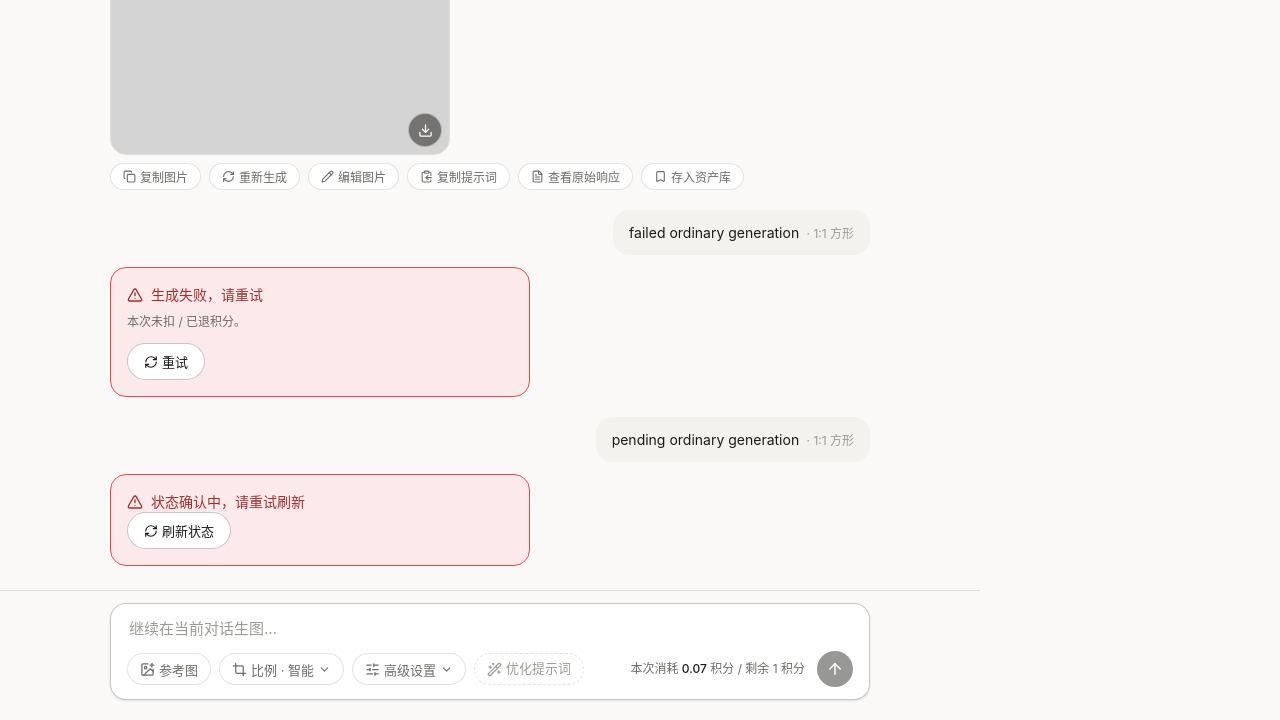
Scenario: conversation image text editing › enters an isolated empty edit draft only from a successful image and cancels back to the ordinary draft
The width and height of the screenshot is (1280, 720).
(page scrolled)
Expected: the number of buttons "编辑图片" is 1, x1=308 y1=163 x2=399 y2=190
Type "ordinary draft" into the text box. click: [490, 630]
box: x1=127 y1=616 x2=853 y2=643
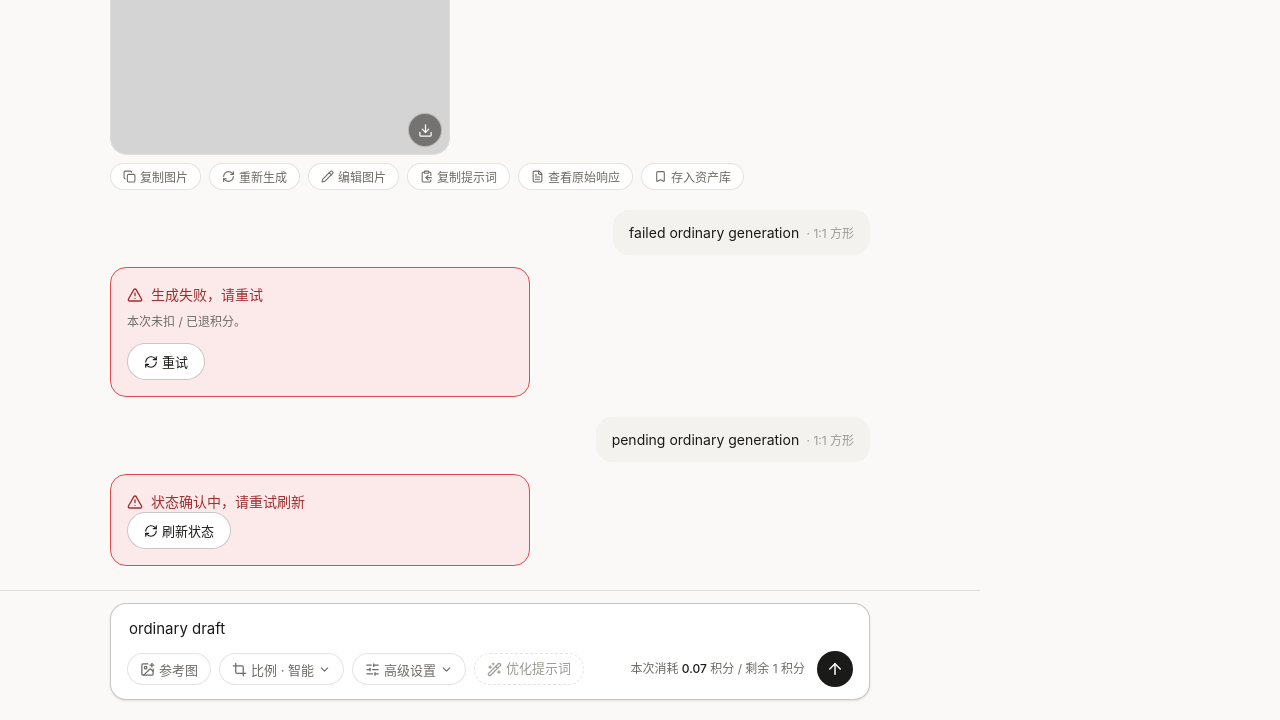
Click the button "编辑图片". click: [354, 177]
box: x1=308 y1=163 x2=399 y2=190
(page scrolled)
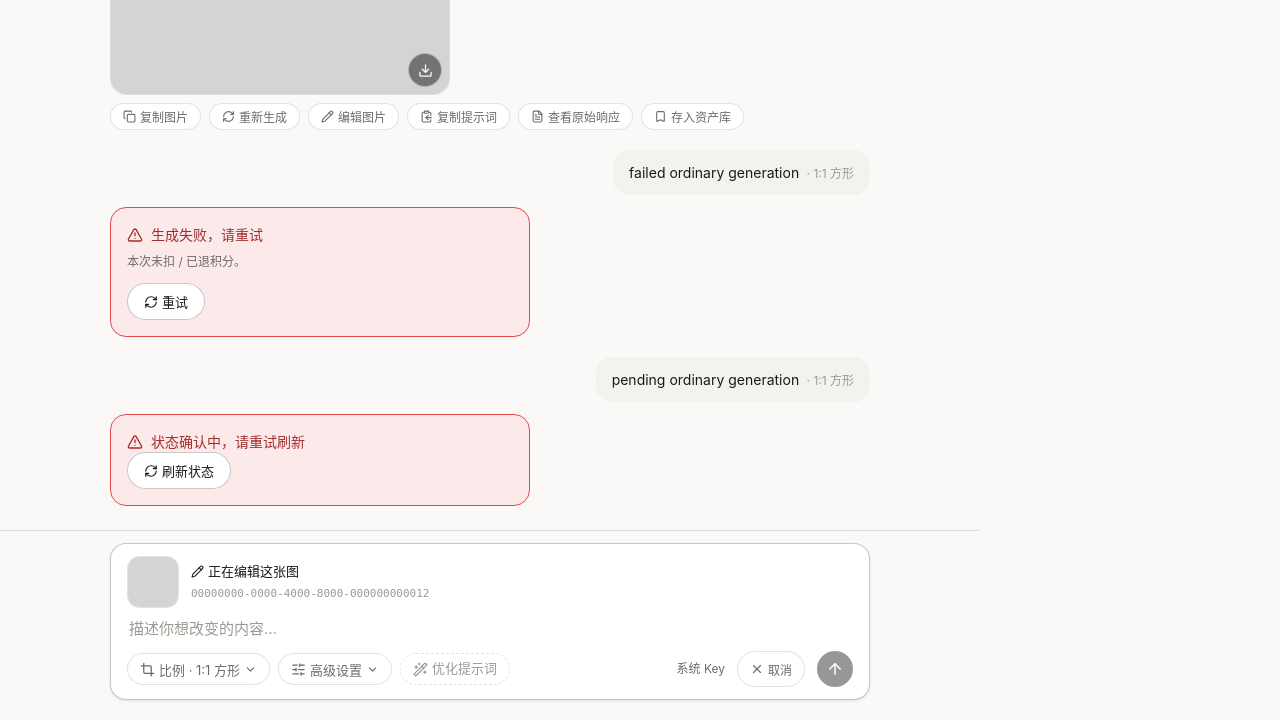
Now the text box is empty, box x1=127 y1=616 x2=853 y2=643
Now the text "正在编辑这张图" is shown, box x1=191 y1=563 x2=299 y2=579
Now the text "00000000-0000-4000-8000-000000000012" is shown, box x1=191 y1=587 x2=429 y2=600
Click the button "高级设置". click: [335, 669]
box: x1=278 y1=653 x2=392 y2=685
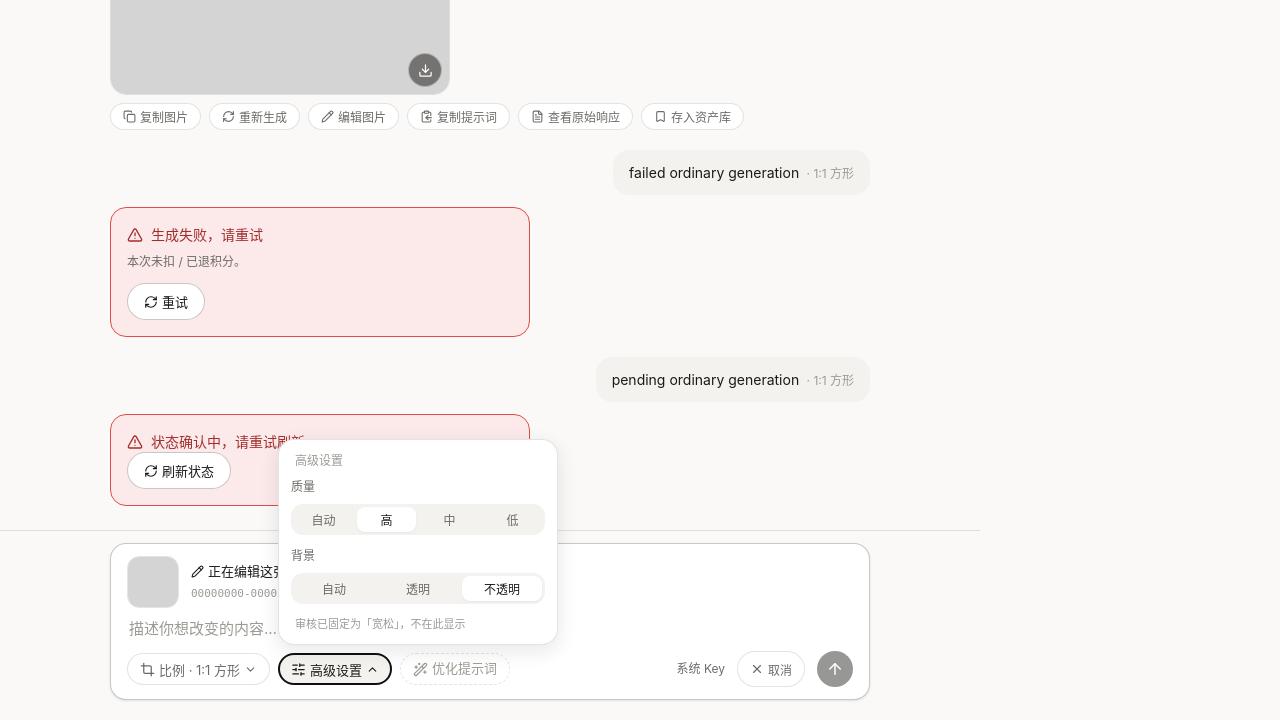
Click the button with aria-label "取消编辑". click: [771, 669]
box: x1=737 y1=651 x2=805 y2=687
(page scrolled)
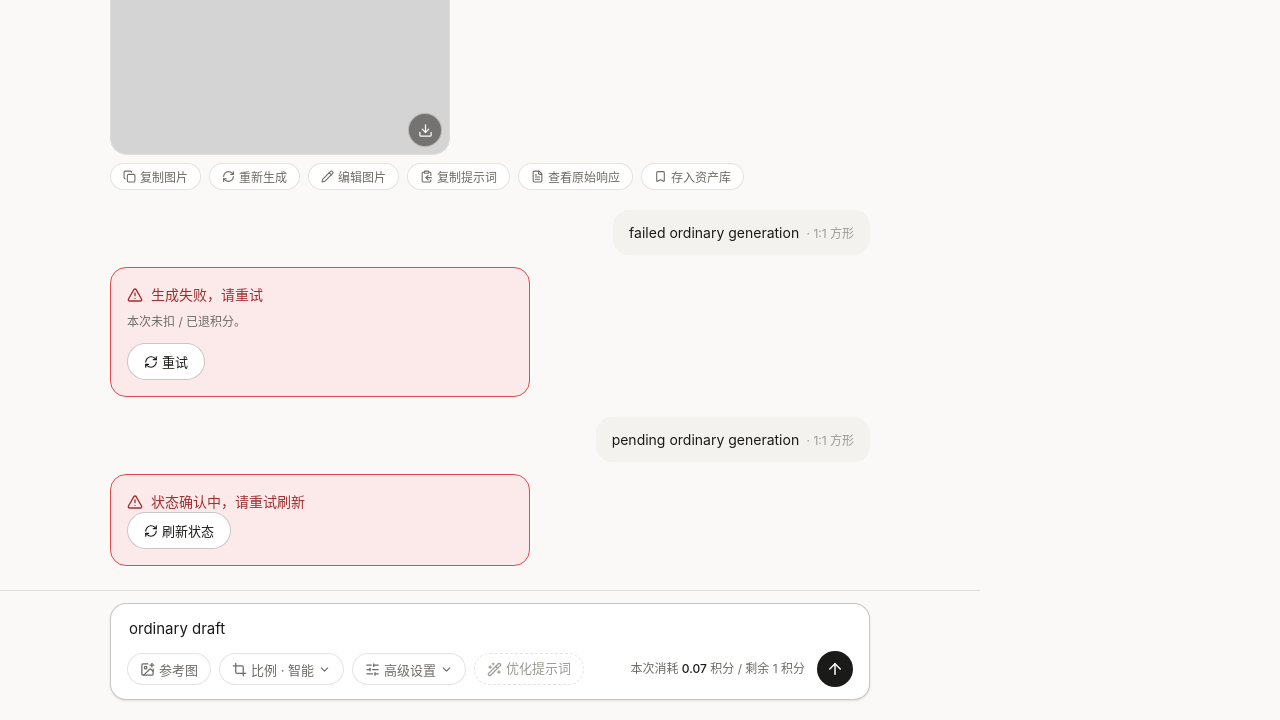
Expected: the button named "生成" is shown, x1=817 y1=651 x2=853 y2=687
Now the text "正在编辑这张图" is gone
